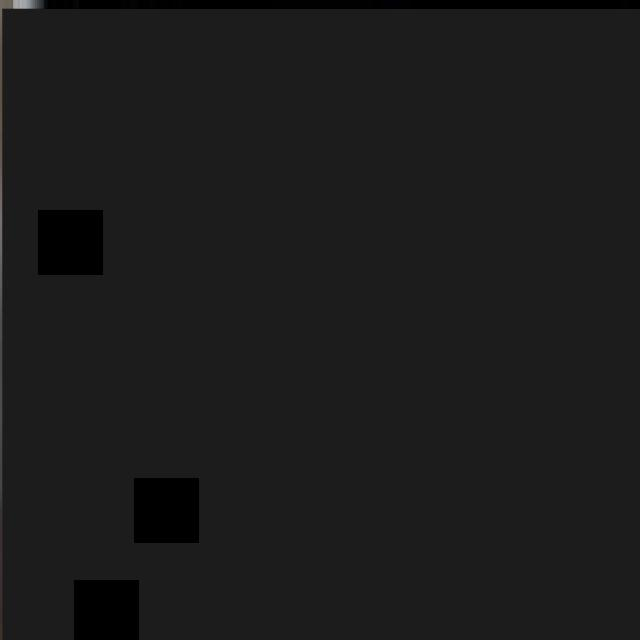smoke: (2, 9, 640, 640)
